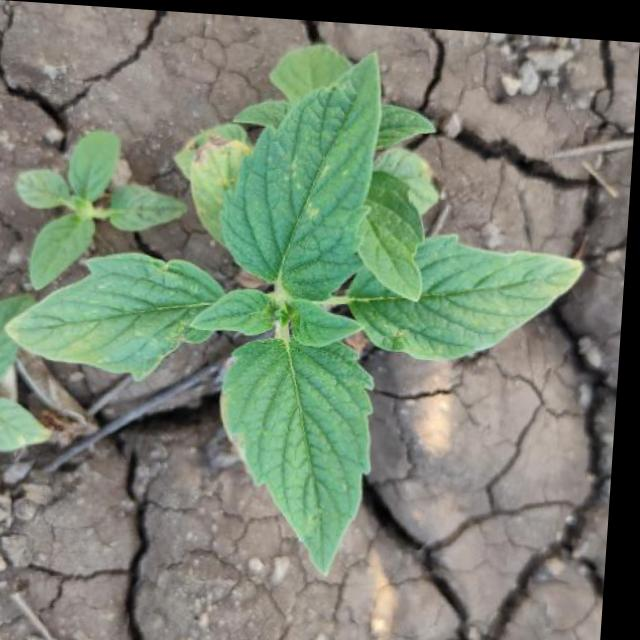crop: (6, 33, 594, 581), (11, 119, 195, 274)
